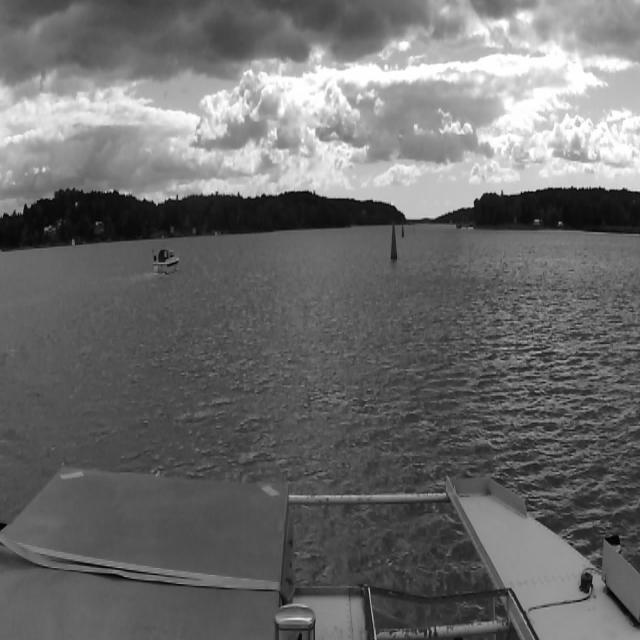buoy: (390, 220, 398, 262), (401, 218, 405, 239), (412, 220, 416, 233)
ship: (152, 246, 180, 275)
